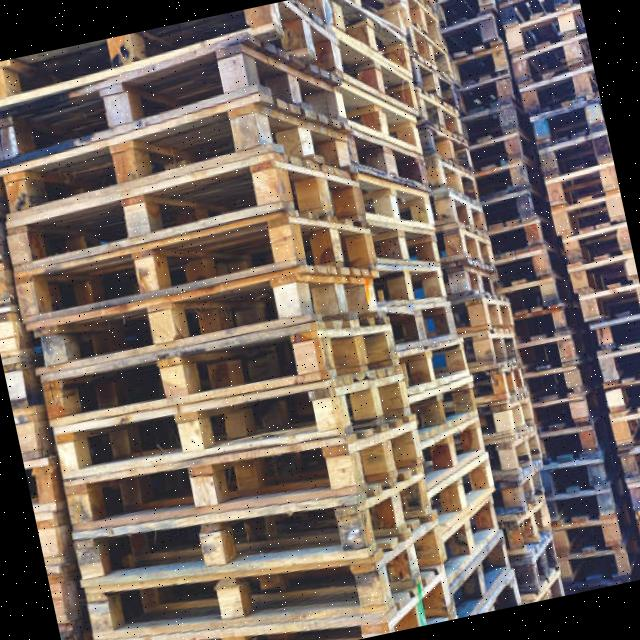Wooden-Pallets: (0, 0, 640, 640), (0, 38, 351, 175), (3, 153, 371, 282), (53, 419, 432, 543), (78, 512, 453, 637), (25, 314, 405, 434), (62, 476, 440, 594), (9, 215, 381, 330), (48, 367, 414, 483), (19, 265, 383, 378), (332, 69, 426, 160), (329, 0, 418, 84), (426, 446, 499, 543), (438, 492, 504, 594), (444, 520, 512, 619), (404, 363, 480, 450), (354, 168, 439, 232), (421, 413, 486, 491), (374, 252, 455, 314), (435, 189, 495, 240), (449, 253, 511, 298), (429, 157, 485, 204), (473, 328, 522, 364)
